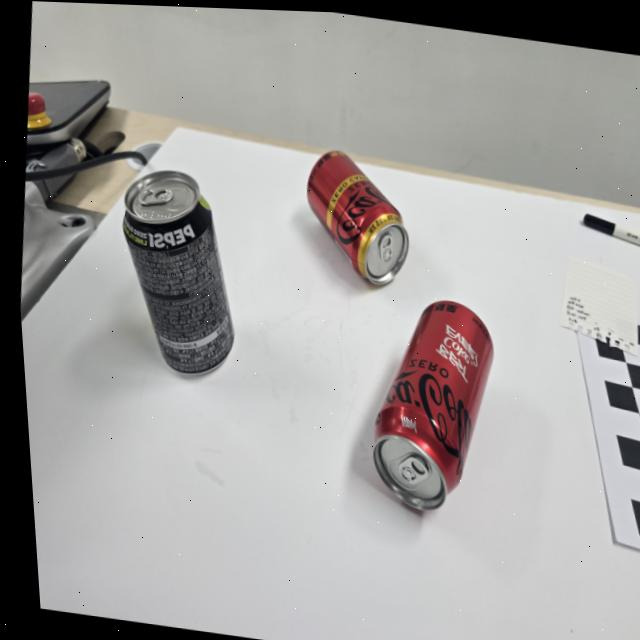can_coke_decaf: (305, 144, 413, 296)
can_coke_zero: (371, 297, 493, 512)
can_pepsi_zero: (120, 173, 237, 383)
